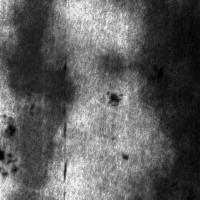patches: (132, 1, 200, 200), (11, 1, 68, 200), (0, 18, 88, 106), (148, 35, 200, 119), (1, 122, 21, 178), (102, 88, 125, 111)
